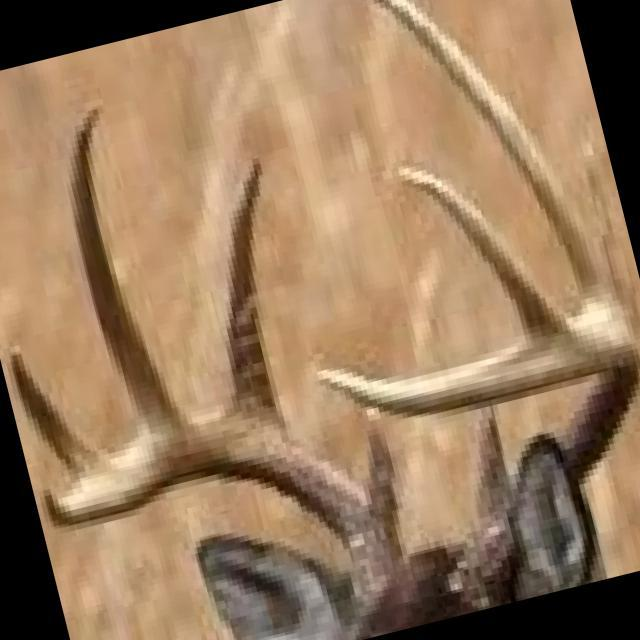L-G1: (475, 410, 511, 527)
L-G3: (365, 0, 631, 329)
L-G4: (394, 164, 571, 346)
R-F: (40, 416, 404, 616)
R-G1: (367, 416, 400, 532)
R-G2: (227, 156, 286, 429)
R-G3: (69, 101, 186, 431)
R-G4: (8, 346, 105, 479)
